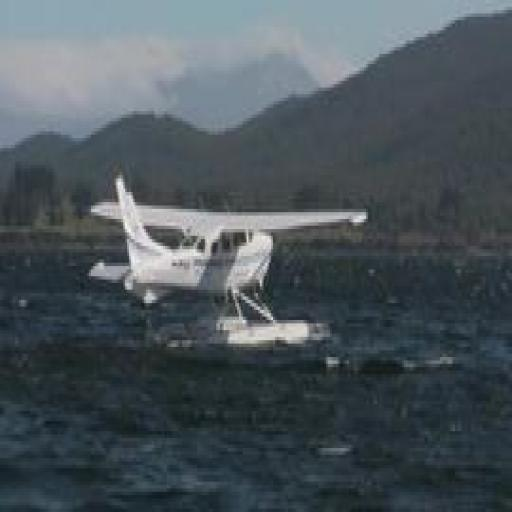aircraft: (85, 168, 372, 354)
